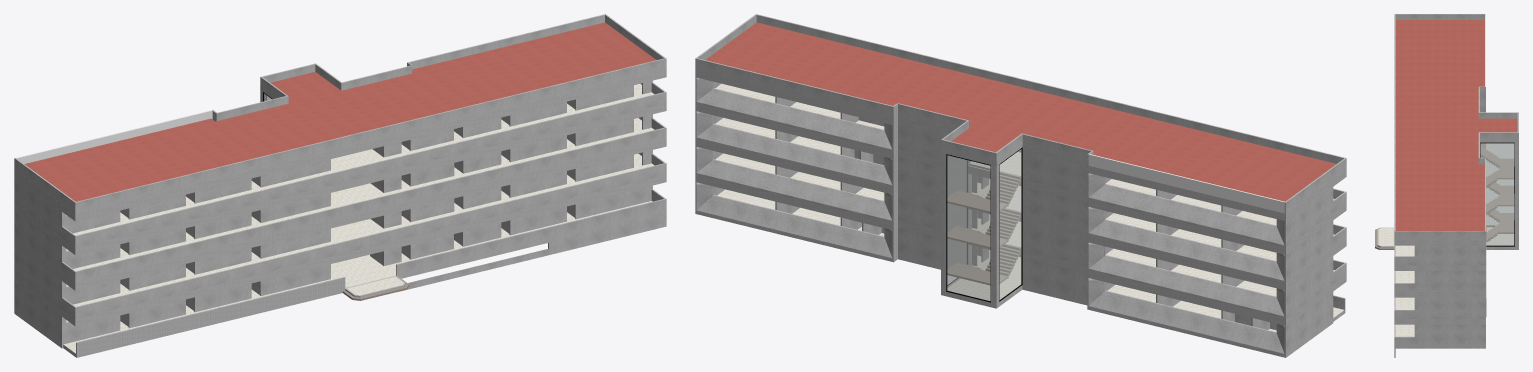
Rendered from MUROS.fbx.
3 views of the same model, side by side, from view 1: azimuth 30°, elevation 25°; view 2: azimuth 150°, elevation 25°; view 3: azimuth 270°, elevation 25° (orthographic). The views are drawn at different scales.
Parts seen in each view (by area): view 1: Group1, Unir, Group106, Group28, Group48, Group163, FALDON2, FALDON, FALDON3, FALDON1, Group162, Unir4 (+18 smaller); view 2: Group1, Unir, Group207, FALDON2, Group128, FALDON1, FALDON, FALDON3, ENTREPISO1, Group172, Group164, ENTREPISO (+32 smaller); view 3: Group1, Group191, Unir, Group152, Group88, Group44, Group19, Group199, Group128, FALDON, FALDON1, FALDON2 (+21 smaller).
Part boxes in pixels (x1,y1,x2,y2): Group1: (24,22,656,201); Unir: (14,14,666,213); Group106: (76,163,666,318); Group28: (76,91,666,247); Group48: (76,127,666,282); Group163: (396,199,666,292); FALDON2: (14,103,666,254); FALDON: (14,174,666,326); FALDON3: (14,70,666,221); FALDON1: (14,139,666,290); Group162: (76,277,345,357); Unir4: (14,159,329,236); Group1: (705,22,1336,201); Unir: (695,14,1346,213); Group207: (947,155,990,300); FALDON2: (695,103,1346,254); Group128: (696,189,1344,357); FALDON1: (695,139,1346,290); FALDON: (695,174,1346,325); FALDON3: (695,70,1346,221); ENTREPISO1: (696,153,1334,318); Group172: (1089,291,1284,353); Group164: (697,195,891,257); ENTREPISO: (696,118,1334,282); Group1: (1395,20,1517,230); Group191: (1480,143,1514,245); Unir: (1394,14,1485,239); Group152: (1414,324,1485,348); Group88: (1413,297,1485,318); Group44: (1414,271,1485,291); Group19: (1415,245,1485,265); Group199: (1480,143,1513,225); Group128: (1395,227,1514,336); FALDON: (1394,319,1485,324); FALDON1: (1394,292,1485,297); FALDON2: (1394,265,1485,270).
Size of the model in its own units: 66.04 by 17.93 by 18.49.
